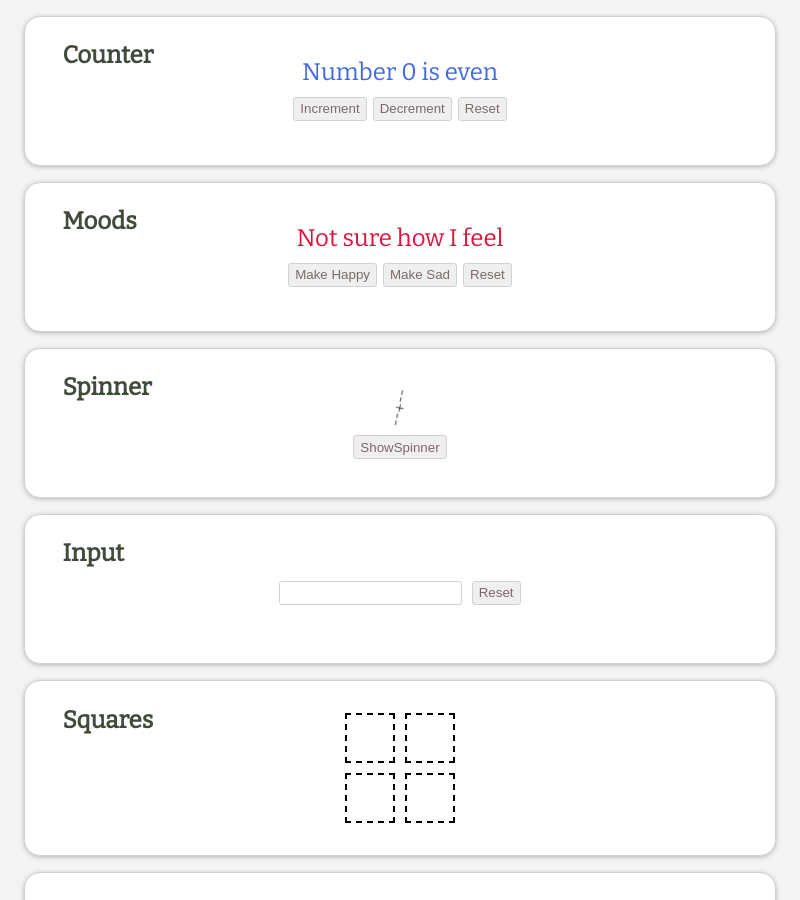
Test: Spinner › Spinner tests › can toggle the spinner
This screenshot has width=800, height=900.
What coordinates should you click on to do the following:
click the button with id "toggleSpinner"
I would click on:
 (400, 447)
Its box is 353,435 -> 446,459.
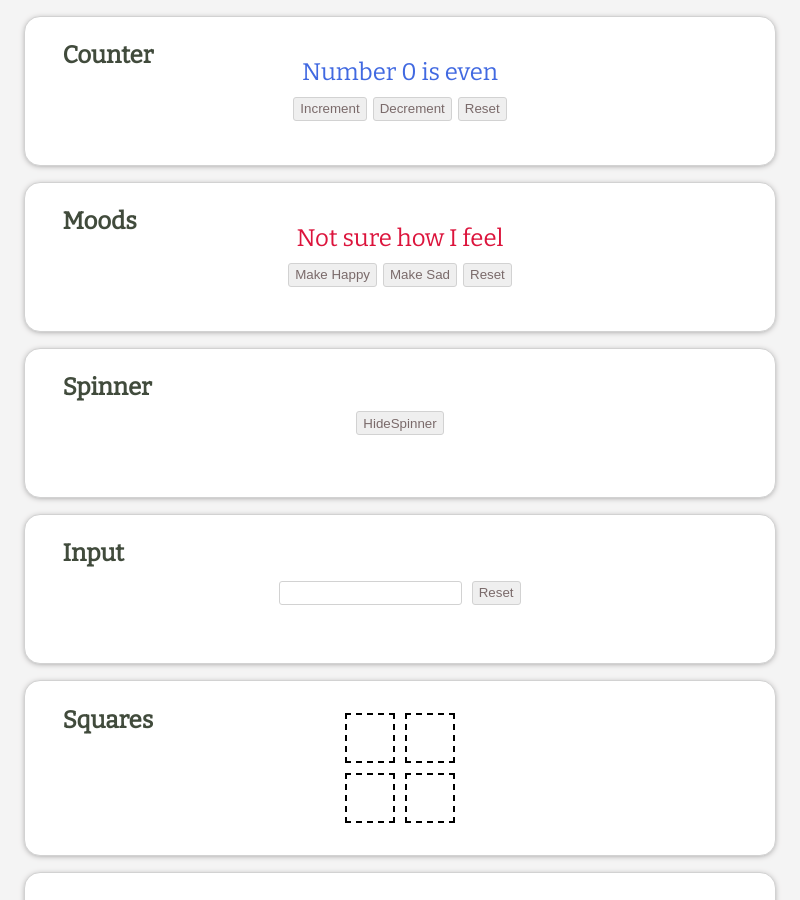
Expected: the text with id "spinner" is gone
What coordinates should you click on to do the following:
click the button with id "toggleSpinner"
I would click on:
 (400, 423)
Its box is 356,411 -> 443,435.
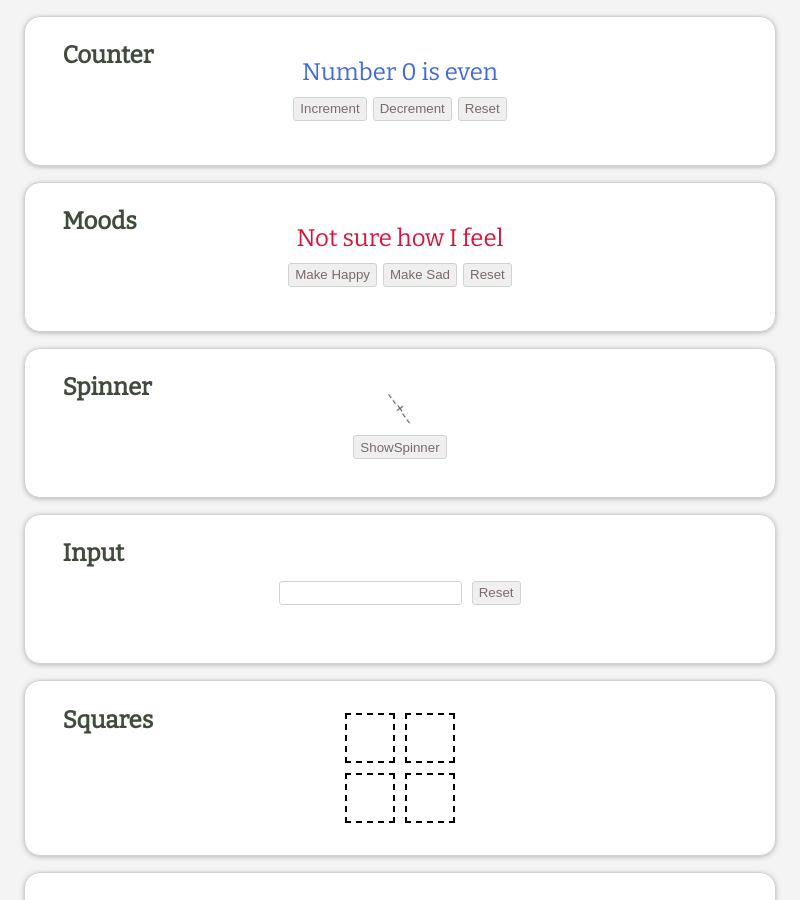
Expected: the text "--+--" is shown, 379,388 -> 421,428
